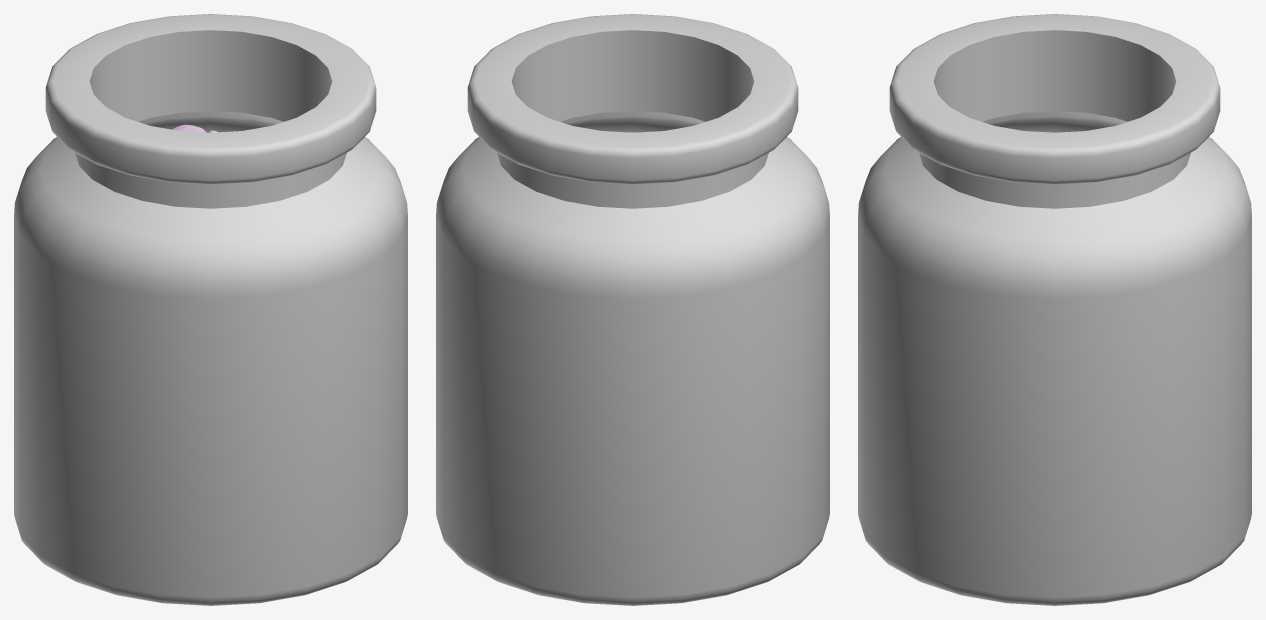
The model's file is Rose pedal jar.fbx.
3 renders of one model, left to right at view 1: azimuth 30°, elevation 25°; view 2: azimuth 150°, elevation 25°; view 3: azimuth 270°, elevation 25°, orthographic.
Visible parts, largest first — view 1: Jar; view 2: Jar; view 3: Jar.
Boxes of the visible parts, <box> form: Jar: <box>14,14,407,605</box>; Jar: <box>436,14,829,605</box>; Jar: <box>858,14,1251,605</box>.
Bounding box in the file's own units: 60 × 75 × 60.
